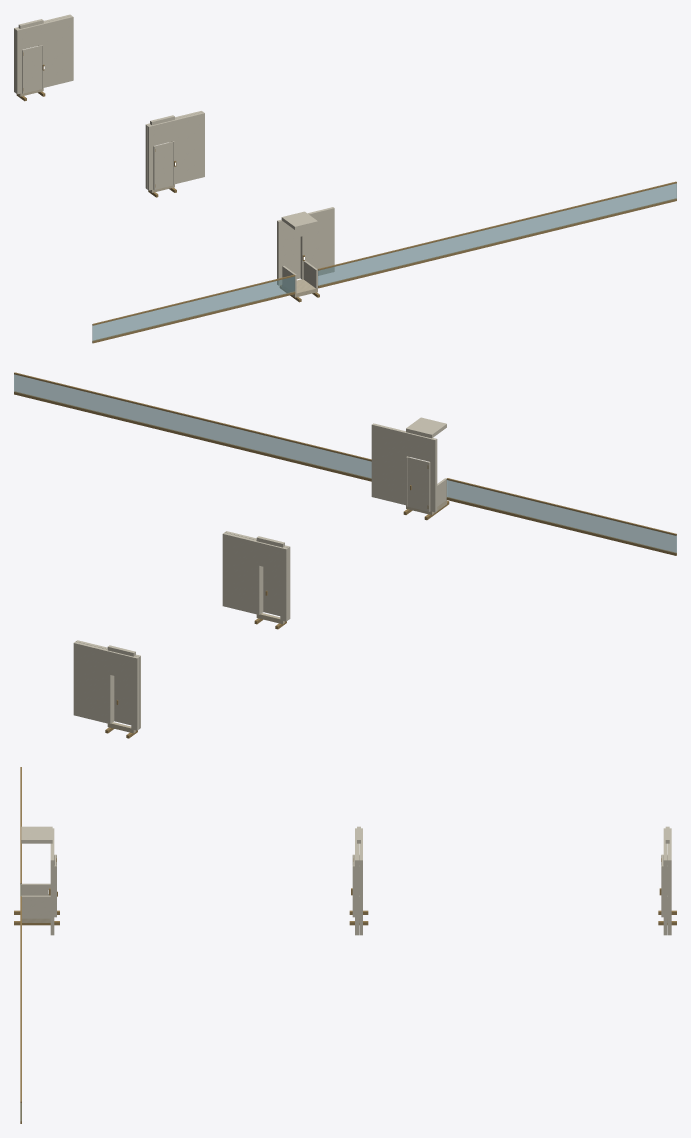
Rendered from D04_COURT_SERVICE_GATES_r003.glb.
The picture shows the model from 3 angles, top to bottom: view 1: azimuth 30°, elevation 25°; view 2: azimuth 150°, elevation 25°; view 3: azimuth 270°, elevation 25°; orthographic projection. The views are drawn at different scales.
Visible parts, largest first — view 1: D04PCS_D04PF_UpperGuard_14_Right, D04PCS_D04PF_UpperGuard_14_Left, D04PCS_D04HC2_east_End_0_Right, D04PCS_D04HC_east_End_0_Right, D04PCS_D04HC_east_End_1_Right, D04PCS_D04PF_UpperGuard_14_Base_Right, D04PCS_D04PF_UpperGuard_14_Cap_Right, D04PCS_OpaqueGate_1, D04PCS_OpaqueGate_2, D04PCS_D04PF_UpperGuard_14_Base_Left, D04PCS_OpaqueGate_0, D04PCS_D04PF_UpperGuard_14_Cap_Left; view 2: D04PCS_D04PF_UpperGuard_14_Right, D04PCS_D04PF_UpperGuard_14_Left, D04PCS_D04HC2_east_End_1_Right, D04PCS_D04HC3_east_End_1_Right, D04PCS_D04HC_east_End_1_Right, D04PCS_D04PF_UpperGuard_14_Base_Right, D04PCS_OpaqueGate_0, D04PCS_D04PF_UpperGuard_14_Cap_Right, D04PCS_D04PF_UpperGuard_14_Base_Left, D04PCS_OpaqueGate_1, D04PCS_OpaqueGate_2, D04PCS_D04HC2_east_End_1_Left (+4 smaller); view 3: D04PCS_LinkEdge_0_1, D04PCS_LinkRoof_0.
Part boxes in pixels (box(x1,y1,x2,y2)): D04PCS_D04PF_UpperGuard_14_Right: box(318, 183, 676, 285); D04PCS_D04PF_UpperGuard_14_Left: box(92, 276, 295, 340); D04PCS_D04HC2_east_End_0_Right: box(40, 16, 73, 87); D04PCS_D04HC_east_End_0_Right: box(172, 112, 204, 184); D04PCS_D04HC_east_End_1_Right: box(301, 207, 334, 279); D04PCS_D04PF_UpperGuard_14_Base_Right: box(318, 198, 676, 288); D04PCS_D04PF_UpperGuard_14_Cap_Right: box(317, 181, 676, 270); D04PCS_OpaqueGate_1: box(155, 141, 173, 189); D04PCS_OpaqueGate_2: box(23, 45, 41, 93); D04PCS_D04PF_UpperGuard_14_Base_Left: box(92, 291, 295, 343); D04PCS_OpaqueGate_0: box(284, 237, 300, 279); D04PCS_D04PF_UpperGuard_14_Cap_Left: box(92, 274, 295, 325); D04PCS_D04PF_UpperGuard_14_Right: box(14, 374, 371, 478); D04PCS_D04PF_UpperGuard_14_Left: box(447, 480, 676, 553); D04PCS_D04HC2_east_End_1_Right: box(222, 532, 260, 614); D04PCS_D04HC3_east_End_1_Right: box(73, 641, 111, 723); D04PCS_D04HC_east_End_1_Right: box(371, 423, 409, 505); D04PCS_D04PF_UpperGuard_14_Base_Right: box(14, 391, 371, 481); D04PCS_OpaqueGate_0: box(407, 457, 428, 511); D04PCS_D04PF_UpperGuard_14_Cap_Right: box(14, 372, 371, 461); D04PCS_D04PF_UpperGuard_14_Base_Left: box(446, 497, 676, 555); D04PCS_OpaqueGate_1: box(263, 567, 280, 615); D04PCS_OpaqueGate_2: box(114, 676, 131, 725); D04PCS_D04HC2_east_End_1_Left: box(280, 547, 288, 621); D04PCS_LinkEdge_0_1: box(21, 895, 50, 918); D04PCS_LinkRoof_0: box(21, 826, 52, 843).
Size of the model in its own units: 37.95 by 4.56 by 31.8.
6 materials, 4 textured.
